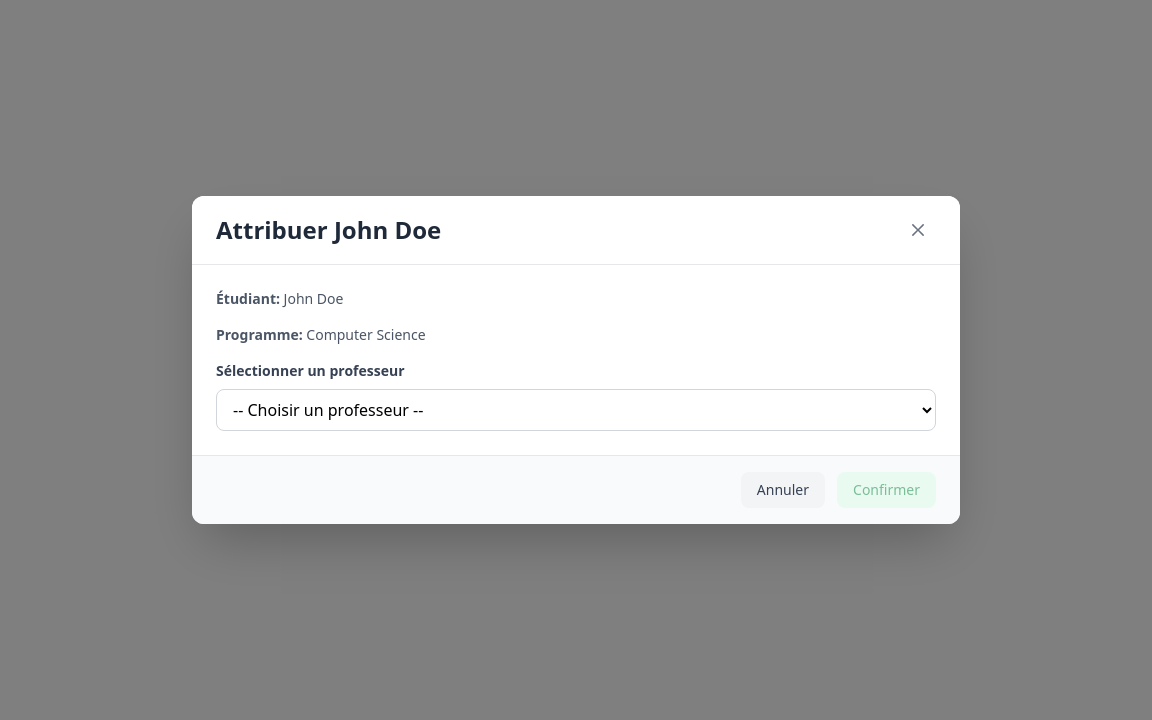
Test case: AssignmentModal › should enable confirm button when professor is selected
The width and height of the screenshot is (1152, 720).
Select "Prof A - Techniques de l'informatique (1 étudiants)" in the dropdown. click: [576, 410]
box: x1=216 y1=389 x2=936 y2=431
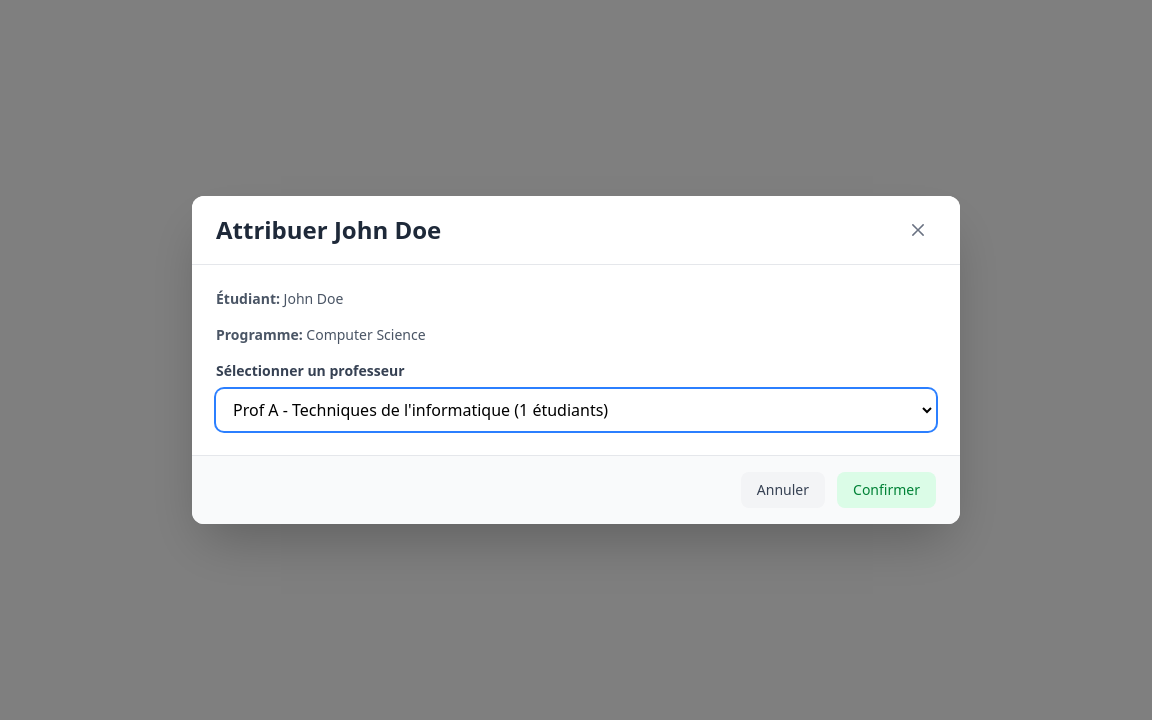
Result: the button "Confirmer" is enabled at x1=837 y1=472 x2=936 y2=508
